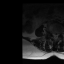CCS_normal: (54, 31, 56, 40)
LFS_normal: (58, 30, 61, 36)
LLS_normal: (56, 31, 58, 39)
RFS_stenosis: (50, 29, 52, 36)
RLS_normal: (52, 31, 54, 38)
